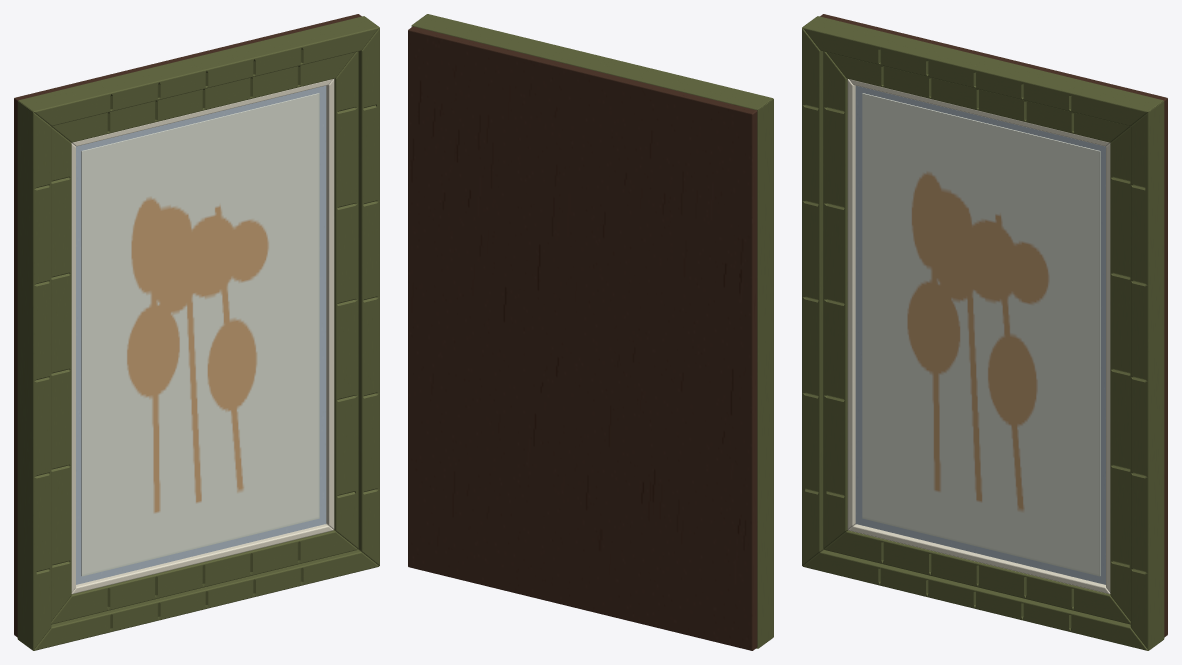
The model's file is Frame_22_FUR06_A6.fbx.
3 renders of one model, left to right at view 1: azimuth 30°, elevation 25°; view 2: azimuth 150°, elevation 25°; view 3: azimuth 330°, elevation 25°, orthographic.
Visible parts, largest first — view 1: Frame_22; view 2: Frame_22; view 3: Frame_22.
Part boxes in pixels (x1=…): Frame_22: x1=14, y1=14, x2=379, y2=650; Frame_22: x1=408, y1=14, x2=773, y2=650; Frame_22: x1=802, y1=14, x2=1167, y2=650.
Size of the model in its own units: 0.35 by 0.52 by 0.036.
